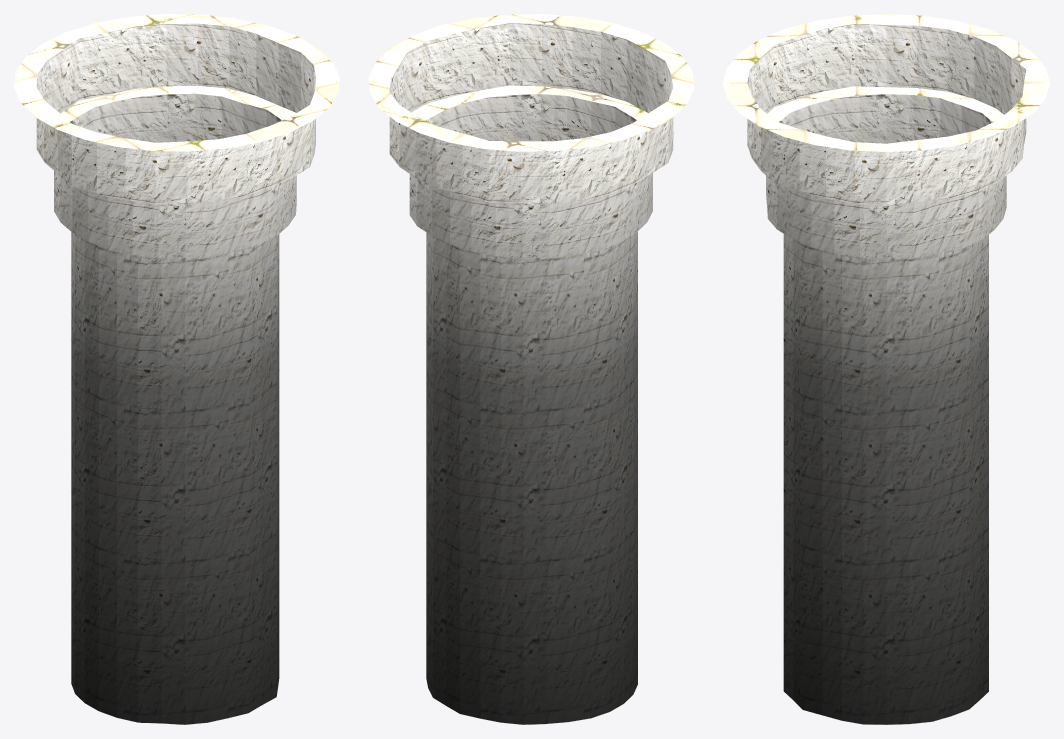
Rendered from sieve-well-pit.glb.
3 renders of one model, left to right at view 1: azimuth 30°, elevation 25°; view 2: azimuth 150°, elevation 25°; view 3: azimuth 270°, elevation 25°, orthographic.
Parts seen in each view (by area): view 1: well-pit; view 2: well-pit; view 3: well-pit.
Boxes of the visible parts, x1,y1,x2,y2 form: well-pit: (14, 14, 339, 724); well-pit: (368, 14, 694, 724); well-pit: (723, 14, 1049, 724).
Bounding box in the file's own units: 2 × 4.04 × 2.
Materials: 2 (2 with a texture image).
